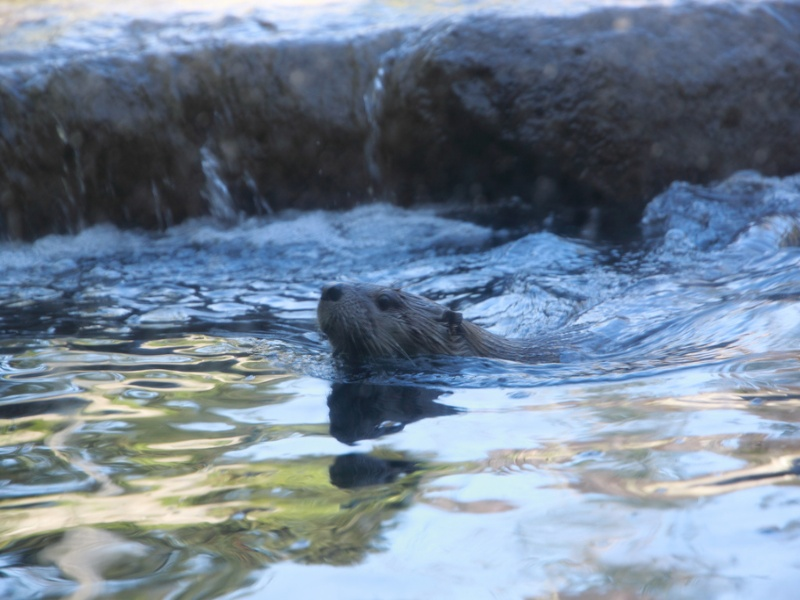minkish: (308, 276, 542, 384)
